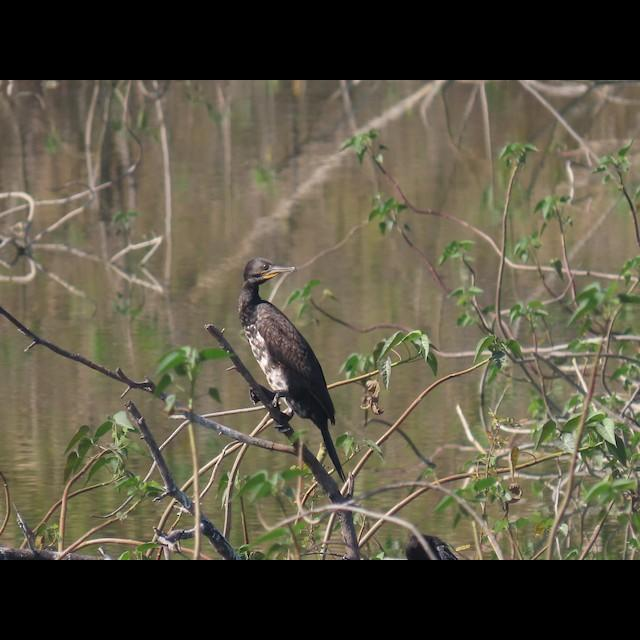cormorant: (234, 243, 352, 455)
